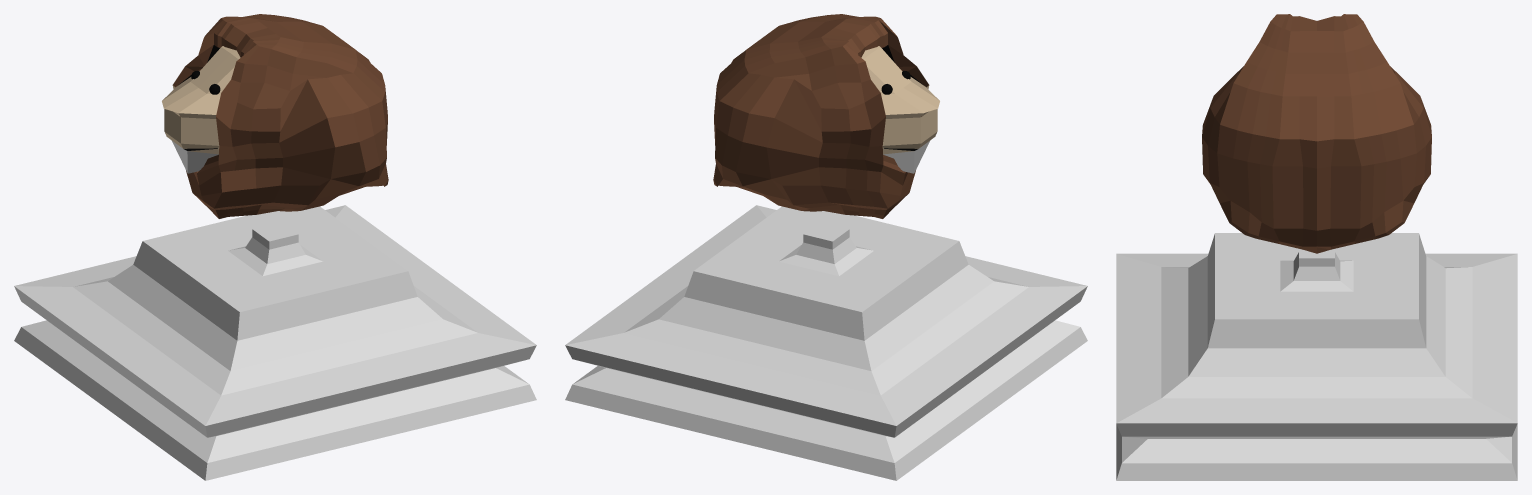
Rendered from STATUE.glb.
3 views of the same model, side by side, from view 1: azimuth 30°, elevation 25°; view 2: azimuth 150°, elevation 25°; view 3: azimuth 270°, elevation 25° (orthographic). The views are drawn at different scales.
Parts seen in each view (by area): view 1: Cube.002, Plane; view 2: Cube.002, Plane; view 3: Cube.002, Plane.
Part boxes in pixels (left/top/right/bottom): Cube.002: left=14, top=205, right=536, bottom=480; Plane: left=162, top=14, right=388, bottom=218; Cube.002: left=565, top=205, right=1087, bottom=480; Plane: left=713, top=14, right=939, bottom=218; Cube.002: left=1116, top=233, right=1517, bottom=480; Plane: left=1202, top=14, right=1431, bottom=253.
Bounding box in the file's own units: 3 × 3 × 3.
